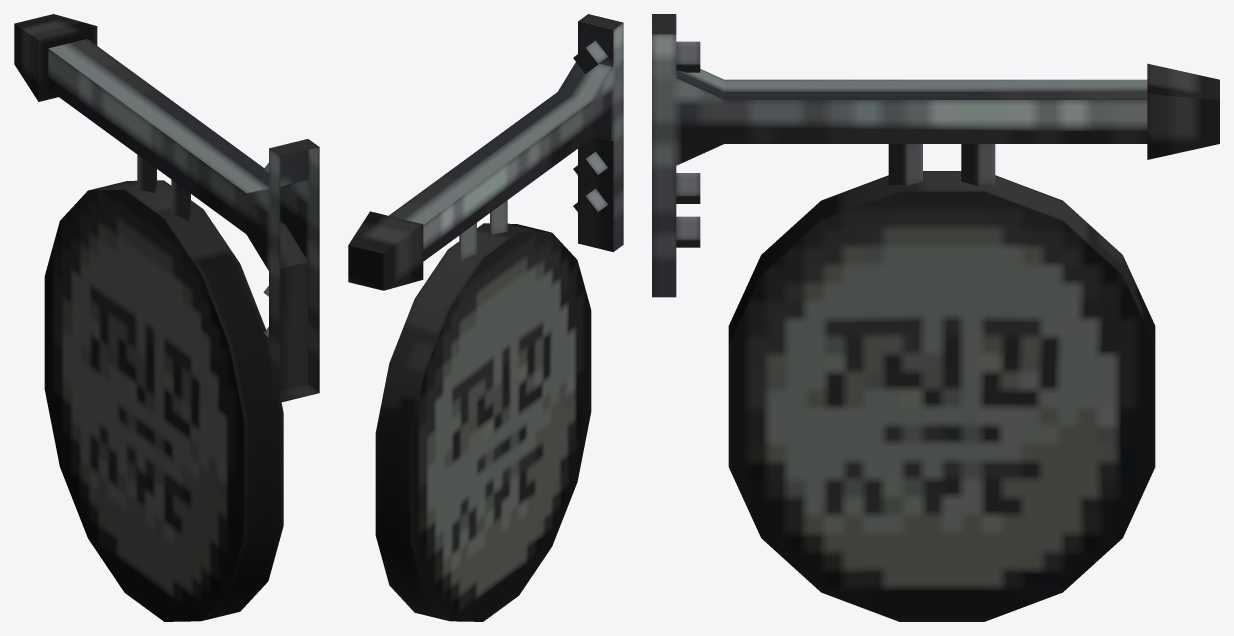
The model's file is EnvBdgMD_City_B_Outdoor_Signbord_C.FBX.
3 renders of one model, left to right at view 1: azimuth 30°, elevation 25°; view 2: azimuth 150°, elevation 25°; view 3: azimuth 270°, elevation 25°, orthographic. The views are drawn at different scales.
Parts seen in each view (by area): view 1: EnvBdgMD_City_B_Outdoor_Signbord_C; view 2: EnvBdgMD_City_B_Outdoor_Signbord_C; view 3: EnvBdgMD_City_B_Outdoor_Signbord_C.
Boxes of the visible parts, x1=… form: EnvBdgMD_City_B_Outdoor_Signbord_C: x1=14, y1=14, x2=319, y2=621; EnvBdgMD_City_B_Outdoor_Signbord_C: x1=348, y1=14, x2=623, y2=621; EnvBdgMD_City_B_Outdoor_Signbord_C: x1=652, y1=14, x2=1219, y2=621.
Size of the model in its own units: 15 by 134 by 118.
Materials: 1 (1 with a texture image).
